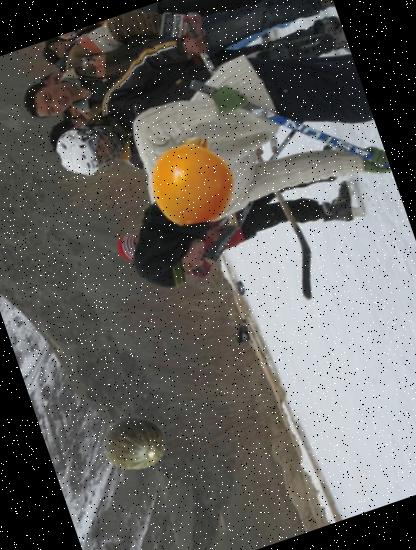Melon: (96, 406, 172, 482)
Physalis: (140, 126, 248, 234)
